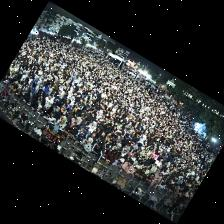person: (91, 143, 103, 166), (42, 94, 52, 115), (53, 116, 65, 133), (104, 149, 116, 164), (52, 93, 62, 111), (64, 122, 76, 137), (79, 137, 91, 152), (58, 99, 69, 114), (103, 138, 113, 154), (121, 161, 133, 174), (45, 111, 58, 123), (86, 121, 95, 136), (75, 125, 87, 136), (142, 173, 153, 185), (134, 167, 145, 179), (34, 99, 44, 112), (39, 79, 47, 95), (156, 179, 167, 190), (75, 131, 85, 143), (80, 107, 89, 120), (20, 89, 29, 102), (71, 117, 80, 130), (28, 82, 34, 101), (87, 133, 97, 144), (137, 156, 148, 166), (95, 132, 106, 142), (85, 113, 95, 124), (29, 94, 37, 107), (113, 158, 124, 167), (164, 183, 175, 192), (148, 163, 157, 173), (120, 146, 129, 156), (132, 160, 141, 170), (153, 172, 163, 181), (65, 110, 71, 125), (51, 80, 58, 92), (44, 84, 51, 96), (32, 81, 39, 93), (111, 140, 120, 149), (10, 82, 18, 92), (79, 114, 85, 127), (104, 133, 113, 141), (123, 153, 132, 161), (139, 148, 148, 156), (149, 180, 157, 188), (144, 165, 151, 174), (95, 110, 102, 119), (154, 158, 162, 165), (5, 79, 12, 87), (49, 143, 56, 151), (173, 186, 178, 197), (116, 148, 121, 159), (131, 152, 137, 161), (169, 177, 178, 183), (154, 166, 161, 173)
